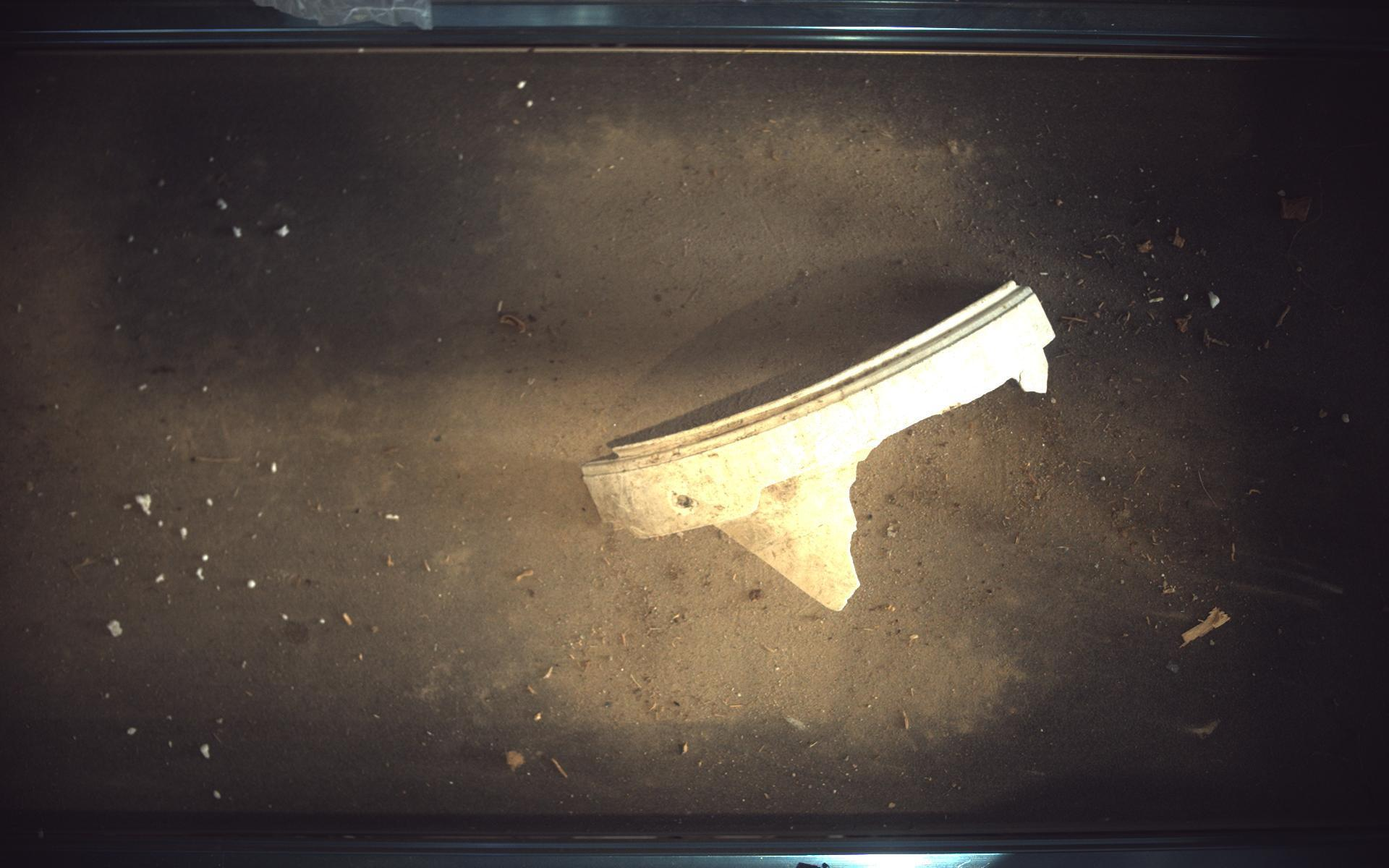plastic: (583, 281, 1057, 610)
